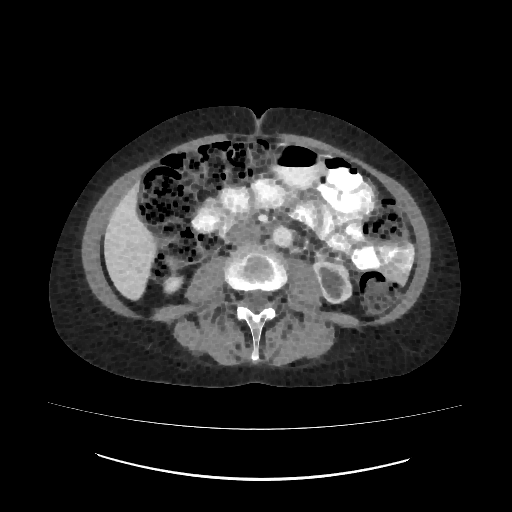Lesion: (315, 263, 346, 304)
